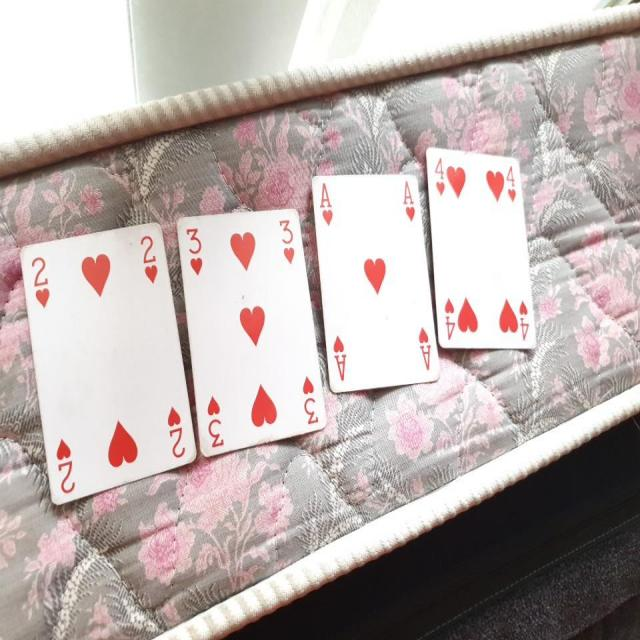2 Hearts: (11, 212, 202, 514)
3 Hearts: (171, 204, 328, 465)
4 Hearts: (418, 139, 542, 359)
A Hearts: (308, 162, 445, 402)
